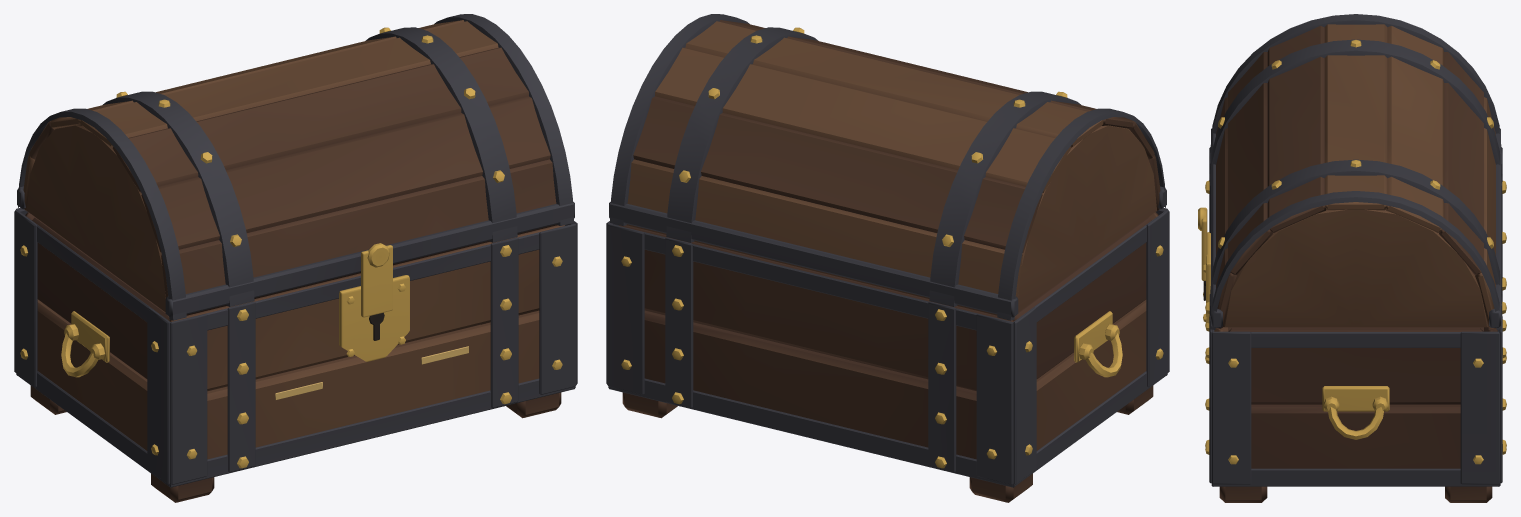
Rendered from pr_chest.glb.
The picture shows the model from 3 angles, left to right: view 1: azimuth 30°, elevation 25°; view 2: azimuth 150°, elevation 25°; view 3: azimuth 270°, elevation 25°; orthographic projection. The views are drawn at different scales.
Visible parts, largest first — view 1: PR_chest__lid, PR_chest__body; view 2: PR_chest__lid, PR_chest__body; view 3: PR_chest__lid, PR_chest__body.
Boxes of the visible parts, x1,y1,x2,y2 form: PR_chest__lid: [17, 14, 574, 320]; PR_chest__body: [14, 207, 577, 502]; PR_chest__lid: [609, 14, 1166, 320]; PR_chest__body: [606, 207, 1169, 502]; PR_chest__lid: [1198, 14, 1501, 329]; PR_chest__body: [1203, 147, 1506, 502].
Size of the model in its own units: 1.25 by 0.8812 by 0.7822.
